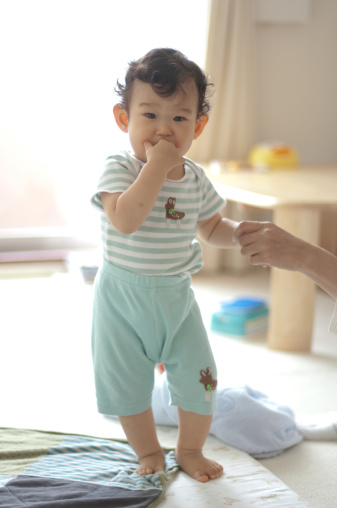em pe: (72, 43, 290, 507)
